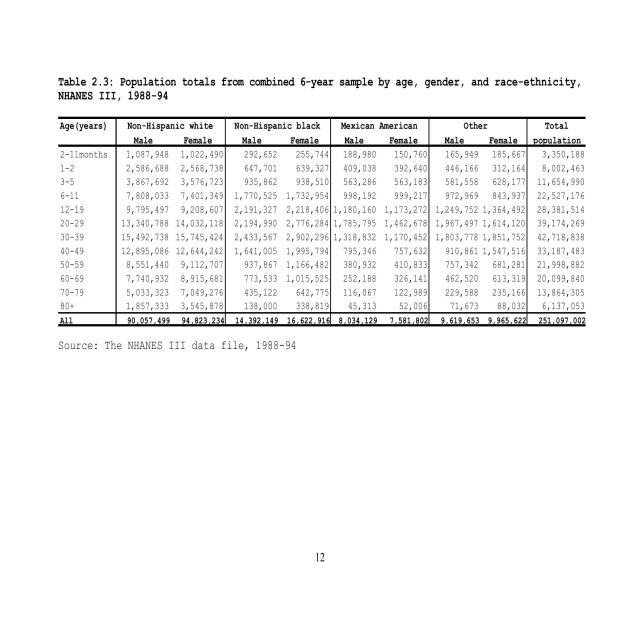table: (59, 119, 586, 324)
